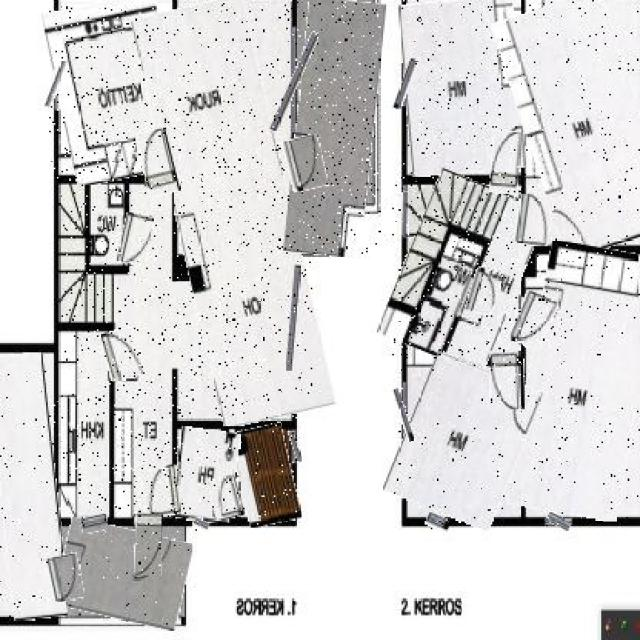door: (140, 129, 177, 197), (512, 294, 556, 349), (285, 137, 326, 192), (103, 328, 143, 380), (490, 352, 524, 411), (491, 132, 522, 194), (143, 468, 180, 517), (516, 196, 552, 244), (120, 214, 152, 266), (136, 511, 162, 575), (49, 554, 83, 601), (209, 475, 243, 520), (468, 268, 500, 315)
window: (280, 29, 309, 132), (397, 58, 414, 111), (290, 264, 298, 370), (49, 60, 65, 108), (397, 388, 411, 442), (81, 515, 108, 534), (546, 514, 571, 529), (426, 515, 449, 531), (291, 431, 300, 463), (403, 191, 409, 235), (194, 518, 209, 532)
zone: (154, 0, 312, 423), (60, 184, 174, 514), (517, 243, 640, 519), (507, 0, 640, 252), (392, 175, 534, 368), (49, 0, 180, 180), (289, 0, 380, 257), (394, 359, 532, 523), (402, 0, 523, 174), (0, 352, 62, 618), (56, 523, 190, 625), (234, 423, 297, 526), (174, 428, 237, 522)
